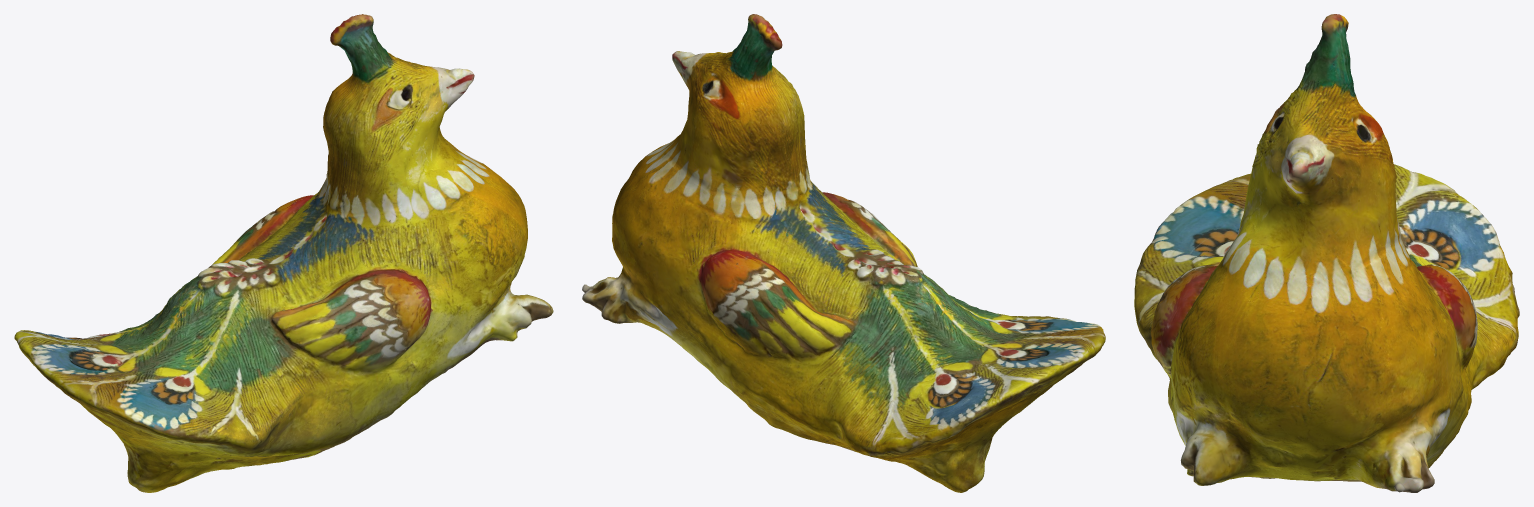
3 views of the same model, side by side, from view 1: azimuth 30°, elevation 25°; view 2: azimuth 150°, elevation 25°; view 3: azimuth 270°, elevation 25° (orthographic). The views are drawn at different scales.
Bounding box in the file's own units: 0.65 × 0.5571 × 0.3528.
1 material, 1 textured.
